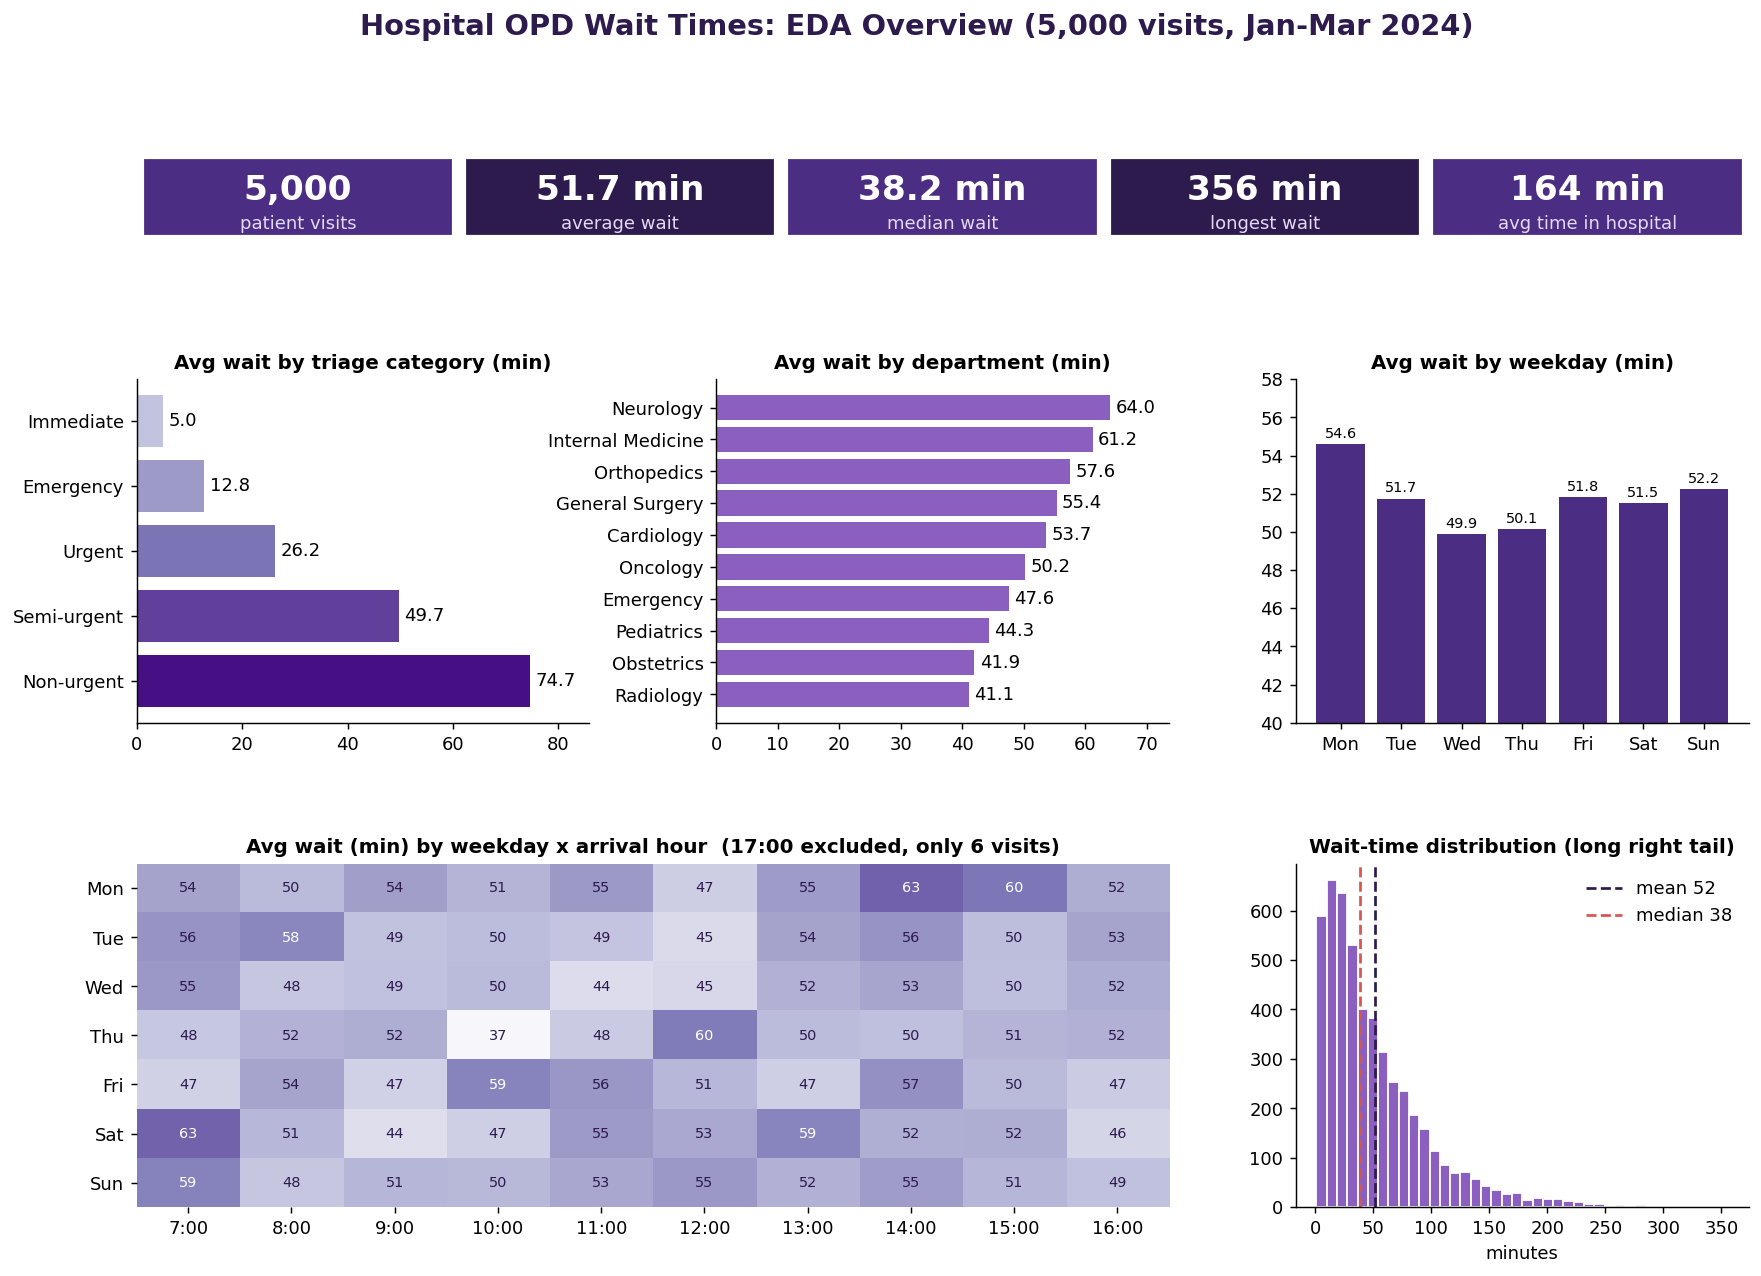

The page's visual inventory and layout, read from the dashboard file:
{"tool":"powerbi","page":{"name":"DASHBOARD OVERVIEW","canvas":[1920,1080],"ordinal":0},"visuals":[{"type":"cardVisual","fields":{"Data":["Sum(overall_kpis.avg_wait_minutes)"]},"box":[0,56.4,218.7,217],"z":0},{"type":"cardVisual","fields":{"Data":["Sum(overall_kpis.total_patients)"]},"box":[218.7,56.4,201.6,217],"z":1000},{"type":"cardVisual","fields":{"Data":["Sum(overall_kpis.max_wait_minutes)"]},"box":[420.4,56.4,223.9,217],"z":2000},{"type":"cardVisual","fields":{"Data":["Sum(overall_kpis.avg_total_time_in_hospital)"]},"box":[644.2,56.4,290.5,217],"z":3000},{"type":"clusteredBarChart","title":"Average Wait Time by Department","fields":{"Category":["department_summary.Department"],"Y":["Sum(department_summary.avg_wait_minutes)"]},"box":[0,278.5,907.4,427.2],"z":4000},{"type":"lineChart","title":"Average Wait Time by Arrival Hour","fields":{"Category":["hourly_summary.ArrivalHour"],"Y":["Avg(hourly_summary.avg_wait_minutes)"]},"box":[922.8,278.5,998,427.2],"z":5000},{"type":"clusteredBarChart","title":"Average Wait Time by Triage Category","fields":{"Category":["triage_summary.TriageCategory"],"Y":["Sum(triage_summary.avg_wait_minutes)"]},"box":[922.8,705.8,998,374.2],"z":6000},{"type":"clusteredColumnChart","title":"Average of wait in minutes","fields":{"Category":["dayofweek_summary.DayOfWeek"],"Y":["Avg(dayofweek_summary.avg_wait_minutes)"]},"box":[0,705.8,907.4,374.2],"z":7000},{"type":"advancedSlicerVisual","fields":{"Values":["department_summary.Department"]},"box":[946.7,56.4,974.1,217],"z":8000},{"type":"textbox","title":"HOSPITAL OPD DASHBOARD — OVERVIEW","box":[0,0,1920.8,56.4],"z":9000}]}

Visuals, with their boxes on the page's 1920x1080 design canvas (x1, y1, x2, y2). These are canvas units, not pixel positions in the 1761x1276 screenshot, which may show the page scaled, cropped or inside an application window:
cardVisual - Sum(overall_kpis.avg_wait_minutes): (0,56,219,273)
cardVisual - Sum(overall_kpis.total_patients): (219,56,420,273)
cardVisual - Sum(overall_kpis.max_wait_minutes): (420,56,644,273)
cardVisual - Sum(overall_kpis.avg_total_time_in_hospital): (644,56,935,273)
"Average Wait Time by Department" clusteredBarChart: (0,278,907,706)
"Average Wait Time by Arrival Hour" lineChart: (923,278,1921,706)
"Average Wait Time by Triage Category" clusteredBarChart: (923,706,1921,1080)
"Average of wait in minutes" clusteredColumnChart: (0,706,907,1080)
advancedSlicerVisual - department_summary.Department: (947,56,1921,273)
"HOSPITAL OPD DASHBOARD — OVERVIEW" textbox: (0,0,1921,56)
